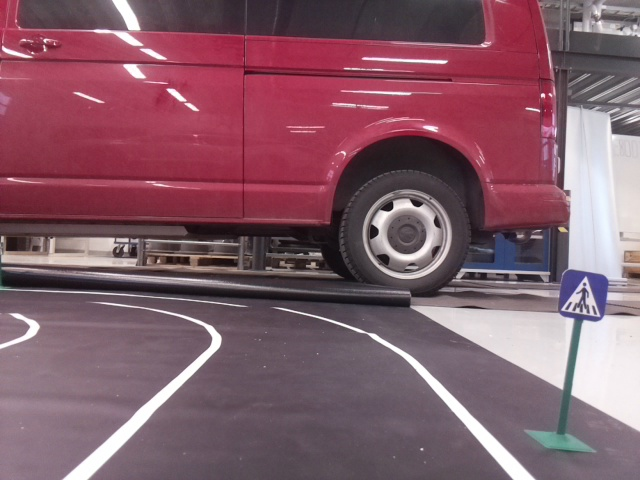Crosswalk: (559, 267, 602, 322)
